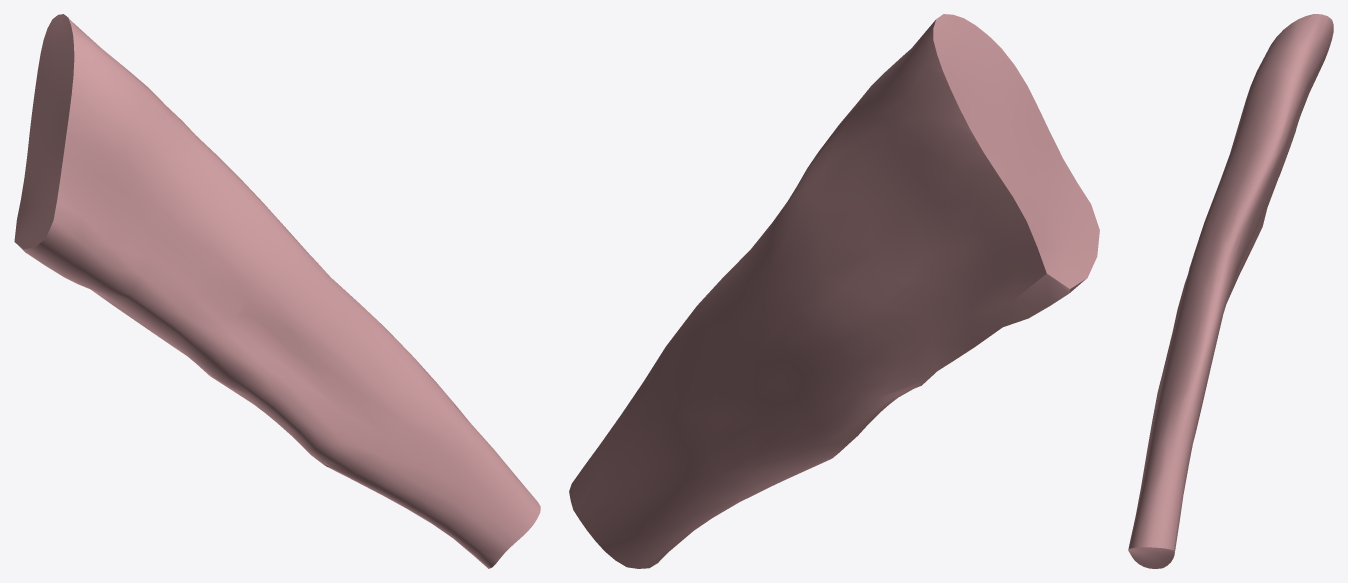
File: fma297822_mm1949m.glb
3 views of the same model, side by side, from view 1: azimuth 30°, elevation 25°; view 2: azimuth 150°, elevation 25°; view 3: azimuth 270°, elevation 25° (orthographic). The views are drawn at different scales.
Visible parts, largest first — view 1: FMA297822_MM1949M; view 2: FMA297822_MM1949M; view 3: FMA297822_MM1949M.
Boxes of the visible parts, x1,y1,x2,y2 form: FMA297822_MM1949M: (14, 14, 540, 568); FMA297822_MM1949M: (569, 14, 1099, 568); FMA297822_MM1949M: (1128, 14, 1333, 568).
Size of the model in its own units: 0.0281 by 0.0335 by 0.0144.
